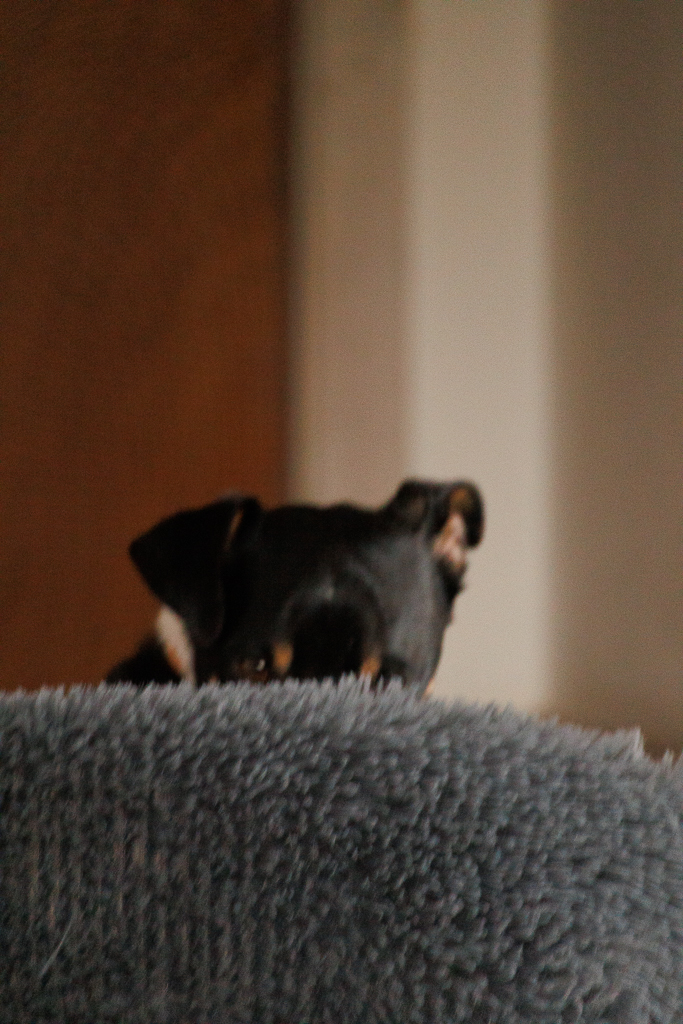Dog: (82, 455, 504, 740)
